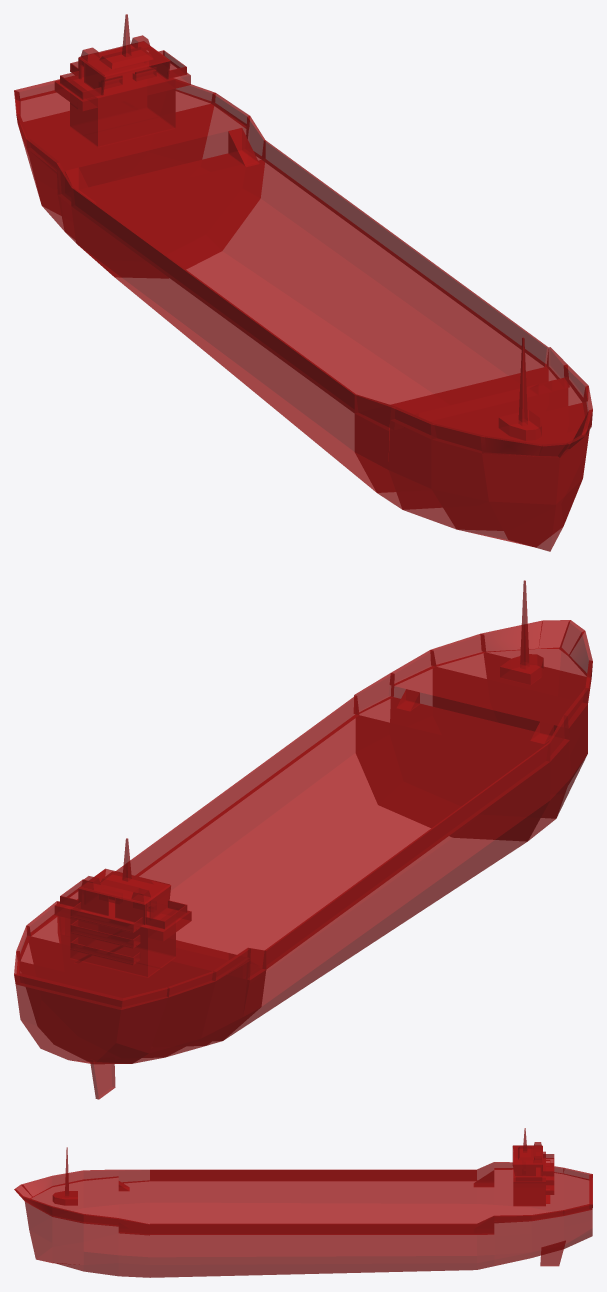
File: SM_Veh_ContainerShip_01_Collision 1.fbx
3 views of the same model, one above another, from view 1: azimuth 30°, elevation 25°; view 2: azimuth 150°, elevation 25°; view 3: azimuth 270°, elevation 25° (orthographic). The views are drawn at different scales.
Visible parts, largest first — view 1: SM_Veh_ContainerShip_01_Collision; view 2: SM_Veh_ContainerShip_01_Collision; view 3: SM_Veh_ContainerShip_01_Collision.
Boxes of the visible parts, x1=… form: SM_Veh_ContainerShip_01_Collision: x1=14, y1=14, x2=592, y2=551; SM_Veh_ContainerShip_01_Collision: x1=14, y1=580, x2=592, y2=1099; SM_Veh_ContainerShip_01_Collision: x1=14, y1=1128, x2=592, y2=1277.
Bounding box in the file's own units: 2983 × 3464 × 13220.
